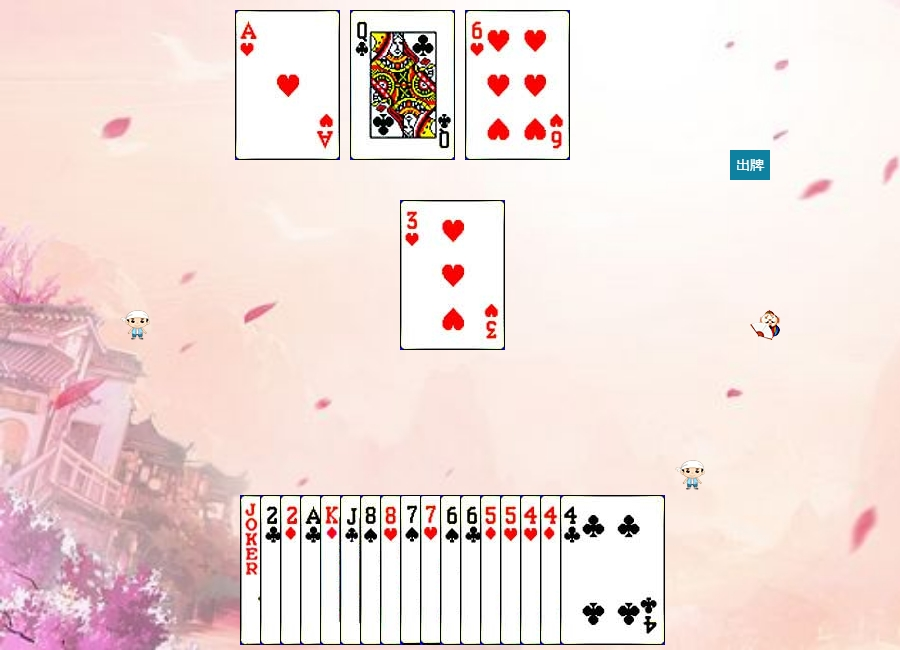11~2: (340, 495, 445, 645)
12~2: (350, 10, 455, 160)
13~1: (320, 495, 425, 645)
14~2: (300, 495, 405, 645)
14~3: (235, 10, 340, 160)
15~1: (280, 495, 385, 645)
15~2: (260, 495, 365, 645)
18~4: (240, 495, 345, 645)
3~3: (400, 200, 505, 350)
4~1: (540, 495, 645, 645)
4~2: (560, 495, 665, 645)
4~3: (520, 495, 625, 645)
5~1: (480, 495, 585, 645)
5~3: (500, 495, 605, 645)
6~2: (460, 495, 565, 645)
6~3: (465, 10, 570, 160)
6~4: (440, 495, 545, 645)
7~3: (420, 495, 525, 645)
7~4: (400, 495, 505, 645)
8~3: (380, 495, 485, 645)
8~4: (360, 495, 465, 645)
